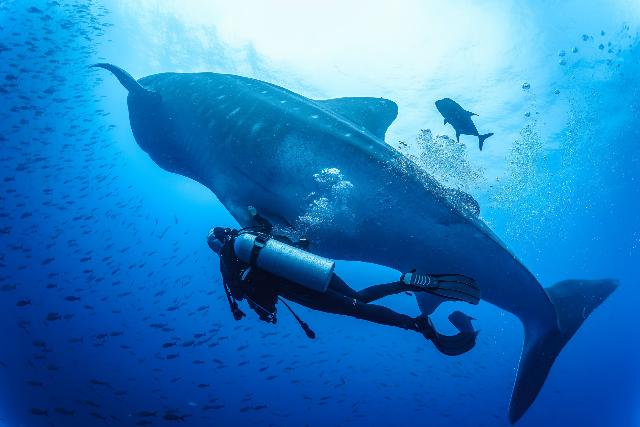Sirip Dada: (311, 82, 404, 144)
Sirip Ekor: (500, 262, 628, 426)
Sirip Punggung: (74, 48, 164, 117)
